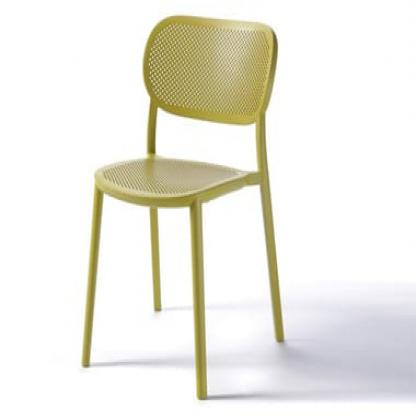chair: (79, 18, 288, 403)
